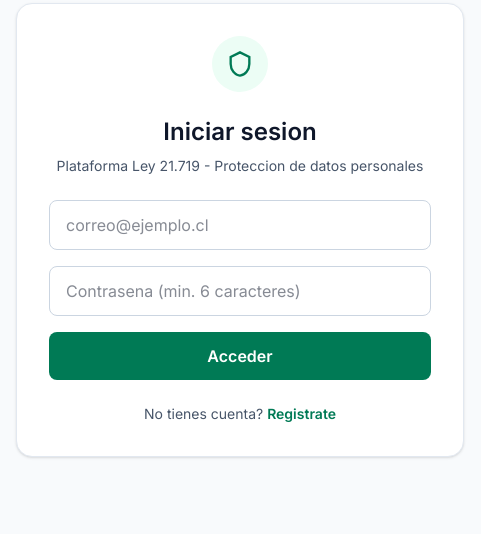
InsForgeAuth component › muestra error si la contraseña es demasiado corta
The image size is (481, 534).
Type "estudiante@example.cl" into the field with placeholder "correo@ejemplo.cl". click: (240, 225)
box: [49, 200, 431, 250]
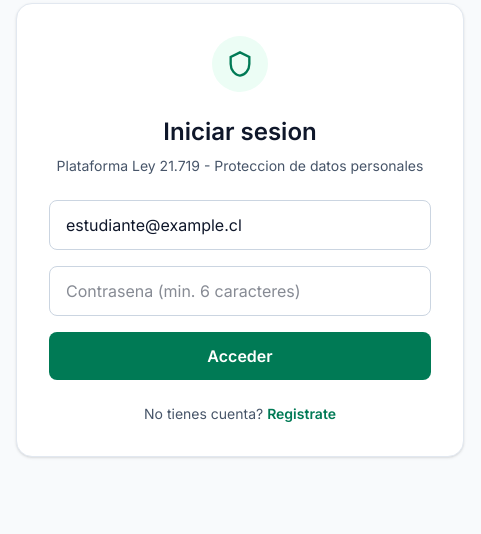
Type "123" into the password field with placeholder "Contrasena (min. 6 caracteres)". click: (240, 291)
box: [49, 266, 431, 316]
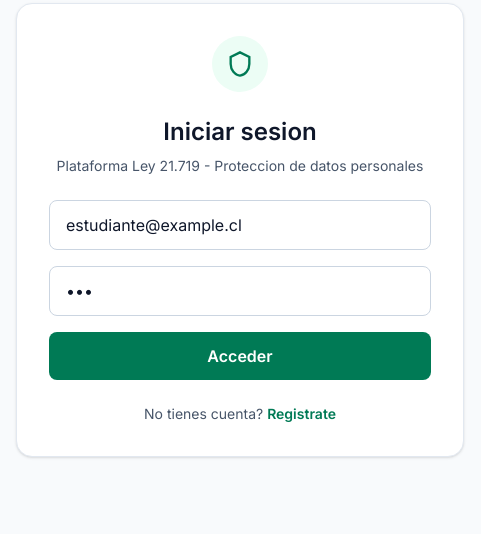
Click the button "Acceder". click: (240, 356)
box: [49, 332, 431, 380]
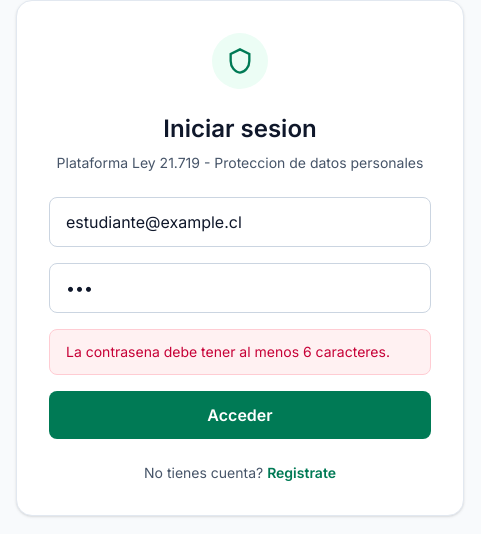
Expected: the message shows "al menos 6 caracteres", [66, 343, 390, 360]
